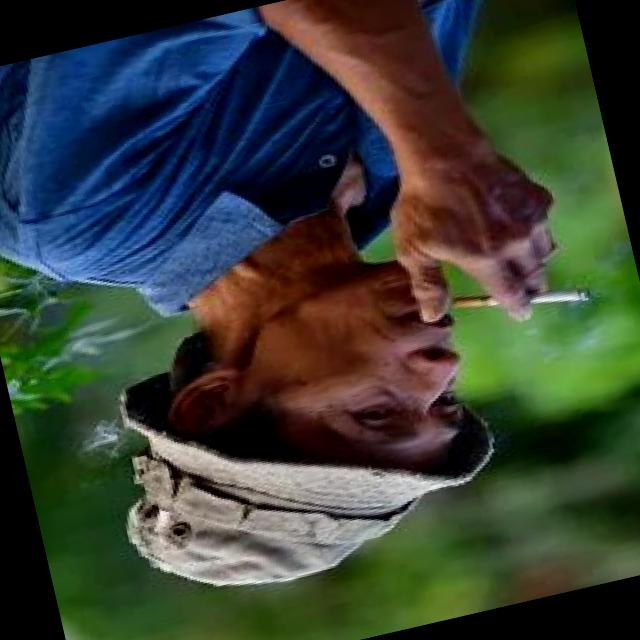cigarette: (438, 256, 600, 336)
